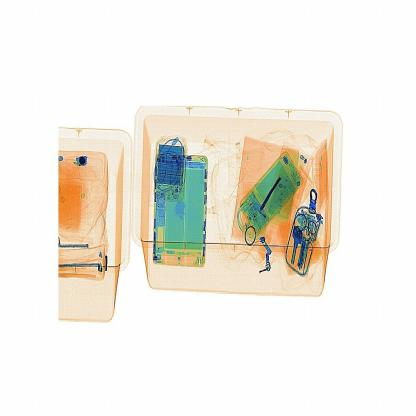knife: (256, 169, 283, 218)
